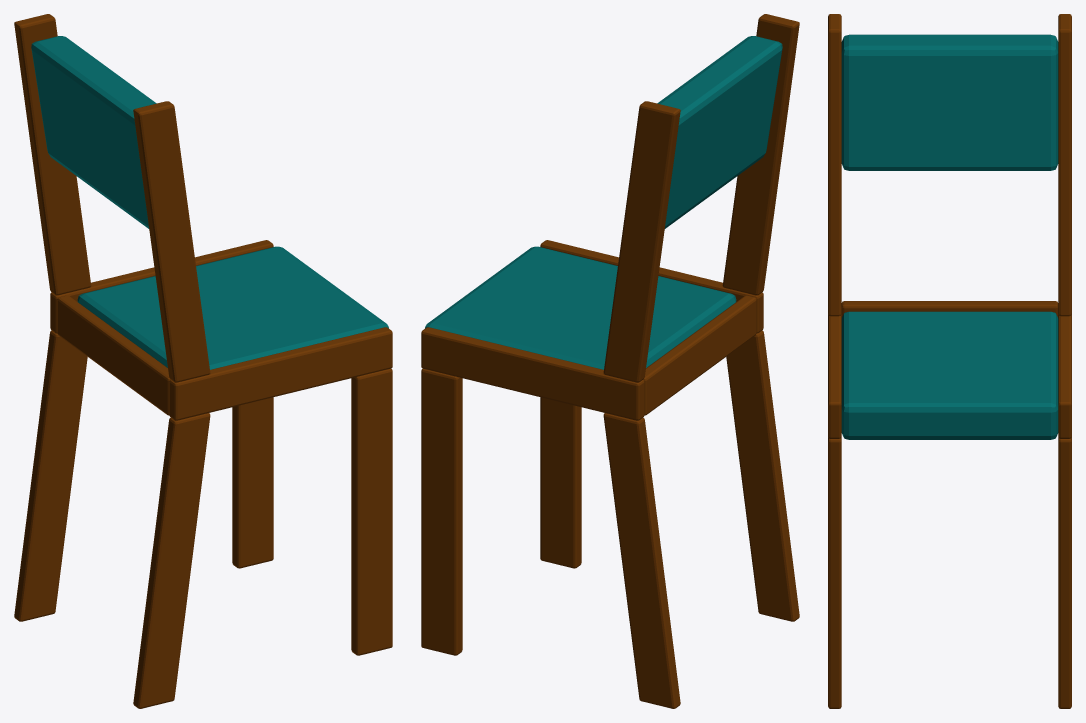
File: Kitchen_Furniture_Chair.fbx
3 renders of one model, left to right at view 1: azimuth 30°, elevation 25°; view 2: azimuth 150°, elevation 25°; view 3: azimuth 270°, elevation 25°, orthographic. The views are drawn at different scales.
Visible parts, largest first — view 1: CHAIR_GEN2; view 2: CHAIR_GEN2; view 3: CHAIR_GEN2.
Boxes of the visible parts, left/top/right/bottom form: CHAIR_GEN2: left=14, top=14, right=392, bottom=708; CHAIR_GEN2: left=421, top=14, right=799, bottom=708; CHAIR_GEN2: left=828, top=14, right=1071, bottom=708.
Size of the model in its own units: 44.63 by 97.68 by 37.41.
